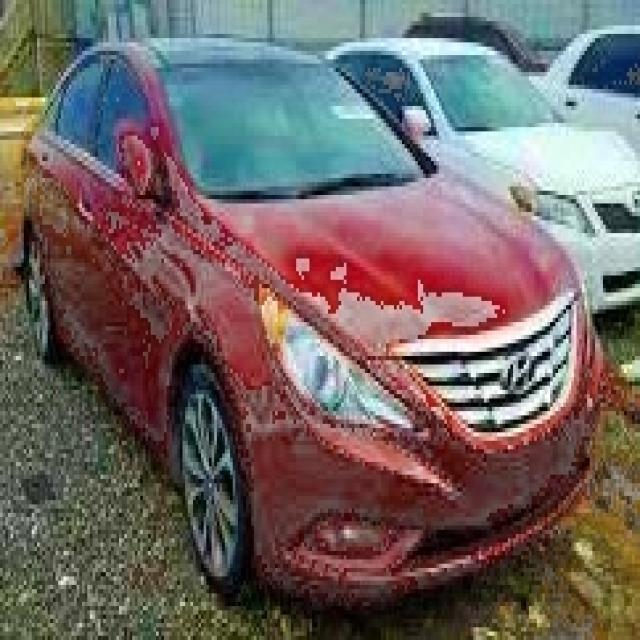maroon: (16, 30, 606, 627)
